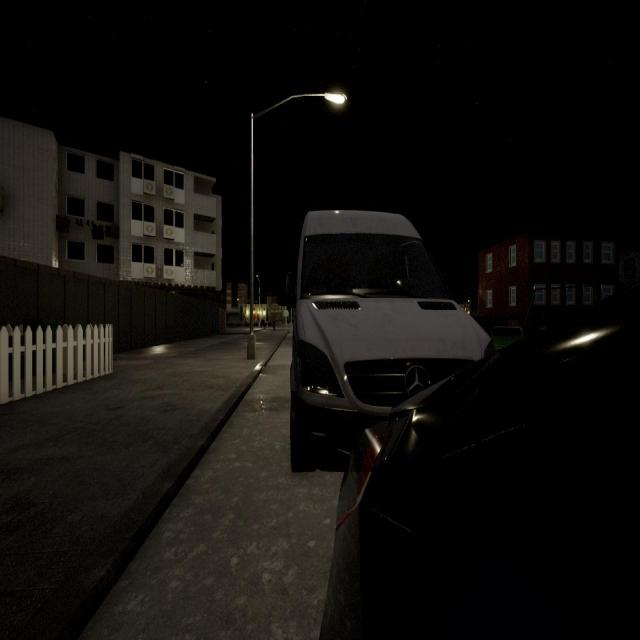Pedestrian: (271, 314, 277, 331)
Traffic_Signs: (283, 310, 289, 317)
Vehicle: (320, 286, 640, 637), (289, 206, 492, 471)
